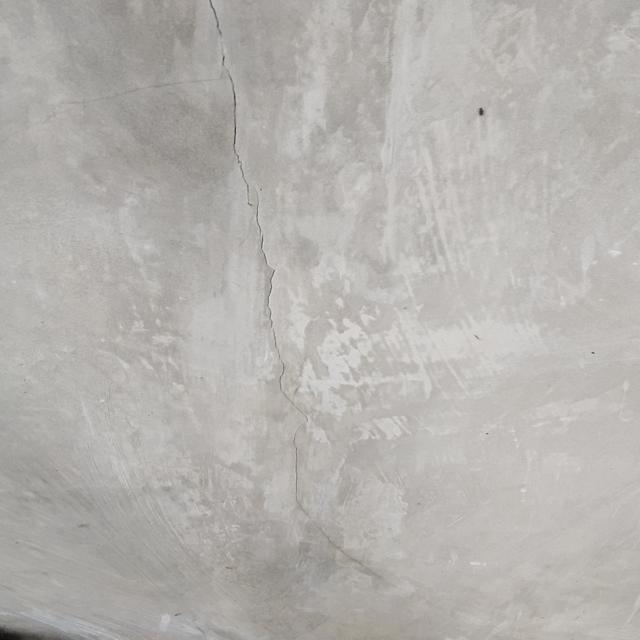Crack: (201, 1, 403, 590)
